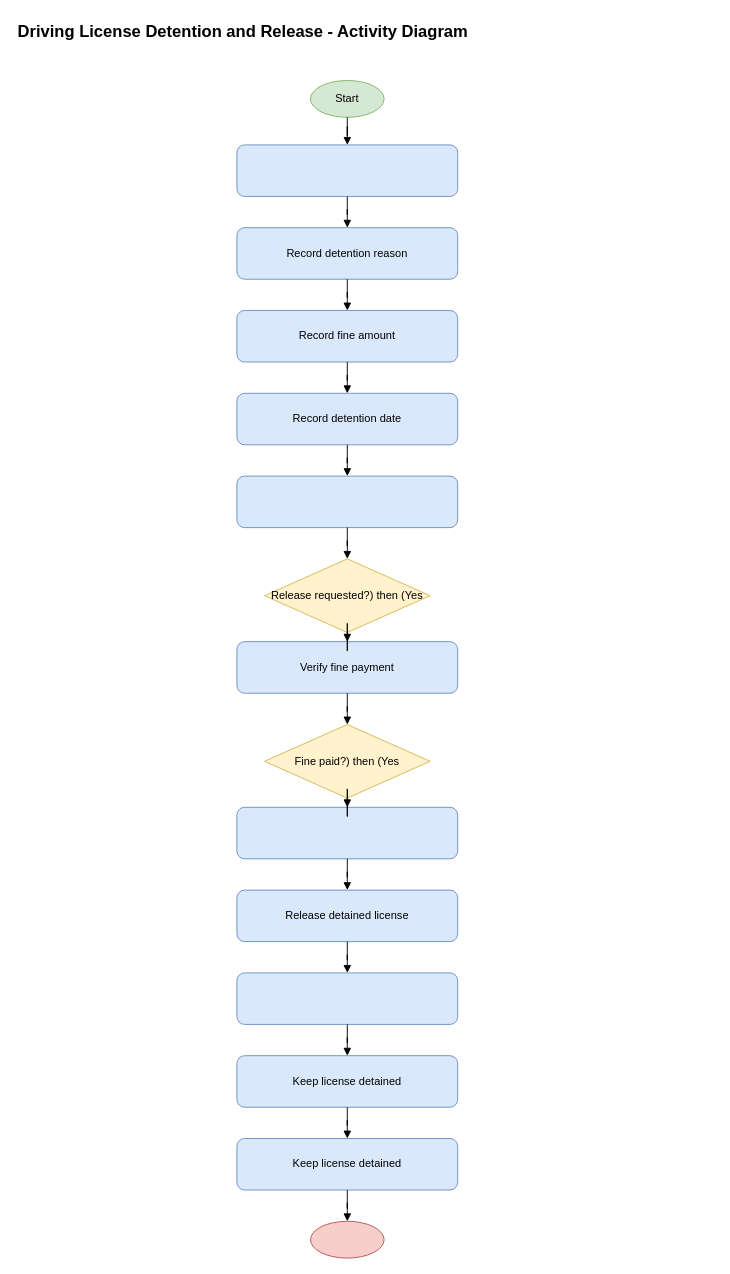
Image size: 730x1274. Some labels were removed from this diagram. Each missing label, with the centre of its shape:
"Display release confirmation" goes at [347,998].
"Enter license number" goes at [347,170].
"Record release date" goes at [347,832].
"Save detention record" goes at [347,501].
"Stop" goes at [347,1239].
